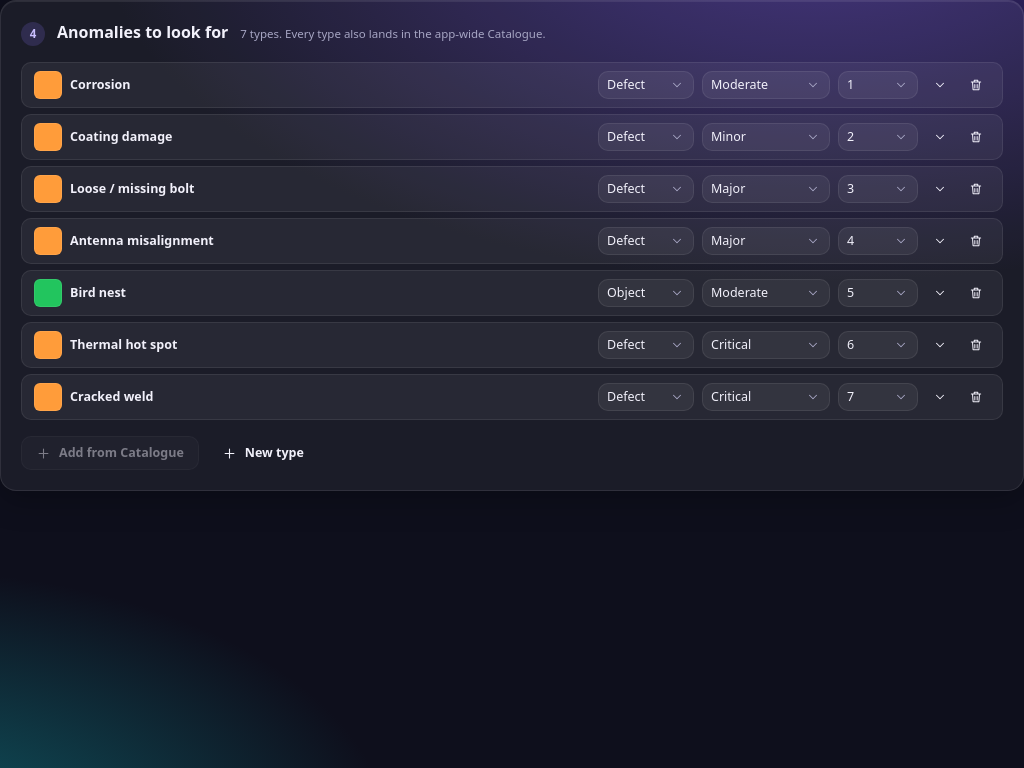
Test: AnomaliesCard › removing a type marks the list edited
The image size is (1024, 768).
Click the button named "Remove Bird nest" at (976, 293), box [962,279,990,307]
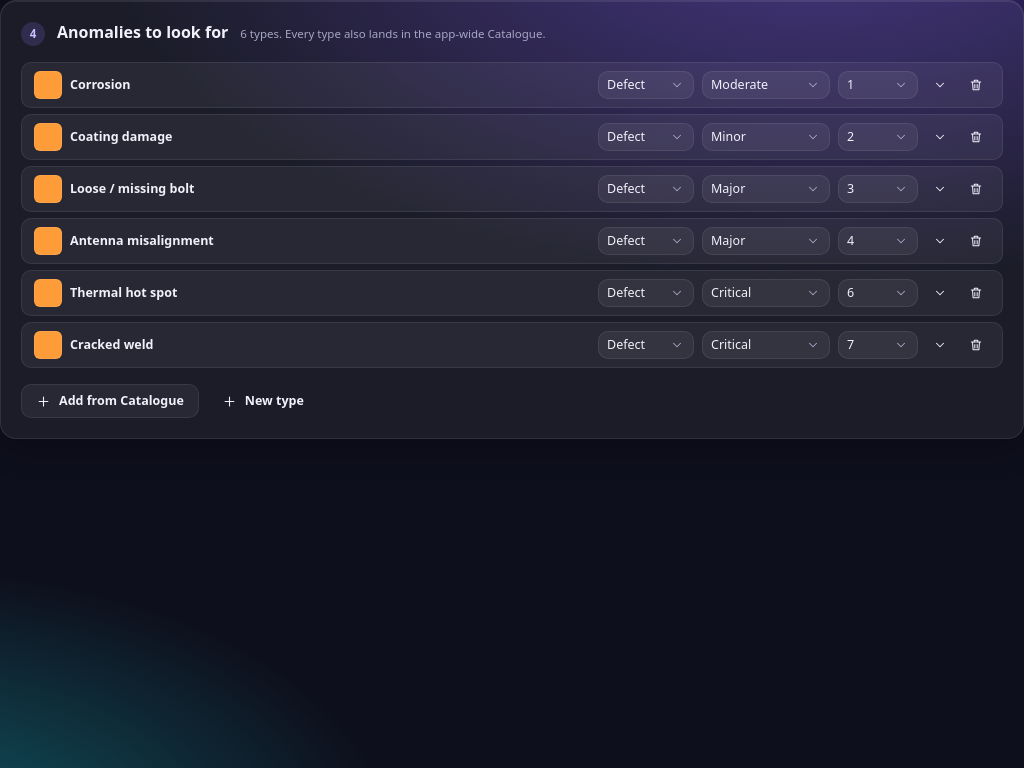
Result: the text "Bird nest" is gone
